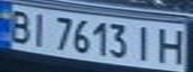1: (87, 19, 112, 57)
3: (106, 20, 130, 61)
6: (69, 18, 93, 55)
7: (48, 15, 75, 51)
B: (3, 7, 36, 44)
H: (154, 25, 190, 65)
I: (24, 10, 54, 47), (130, 23, 157, 62)
